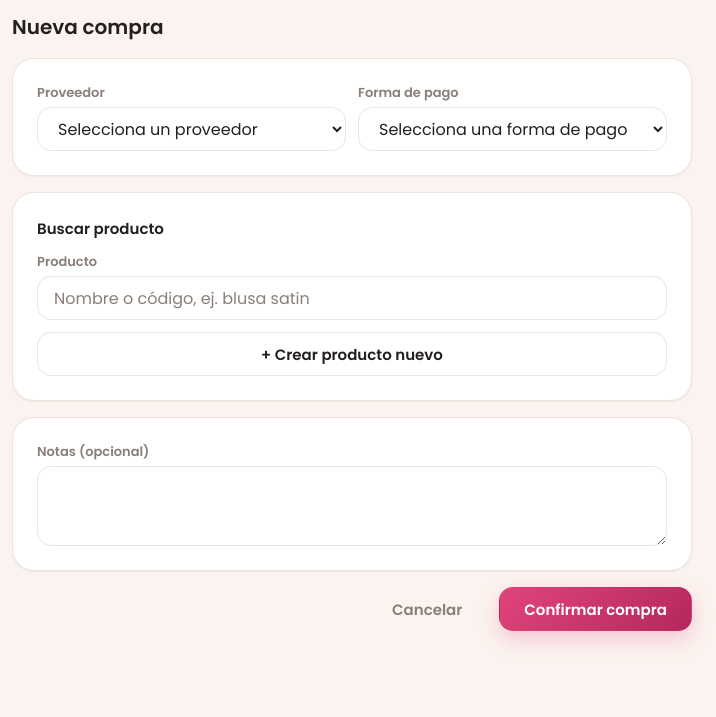
Test: PurchaseFormPage › detecta posibles duplicados al escribir el nombre de un producto nuevo
Click the button "+ Crear producto nuevo" at x=352, y=354, box x1=37 y1=332 x2=667 y2=376
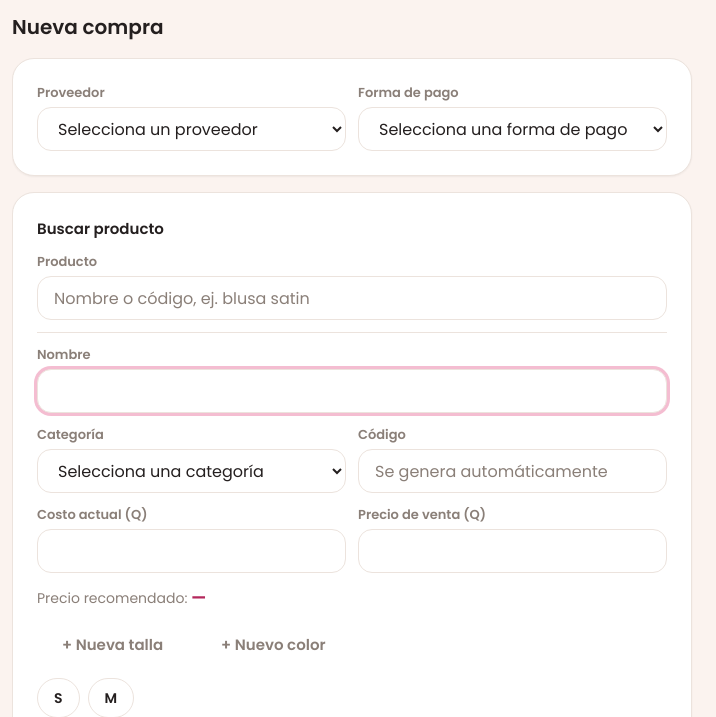
Type "Blusa satin" into the field labelled "Nombre" at x=352, y=391, box x1=37 y1=369 x2=667 y2=413
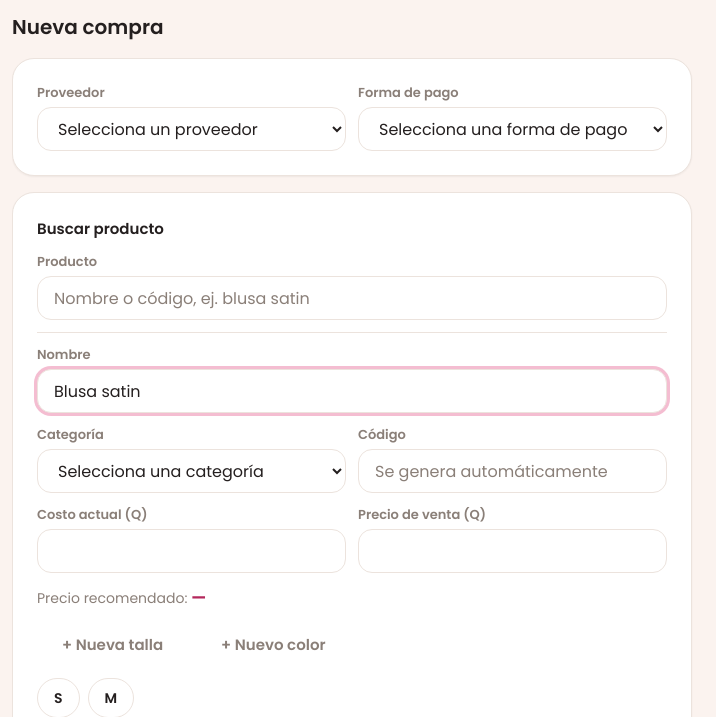
Press Tab
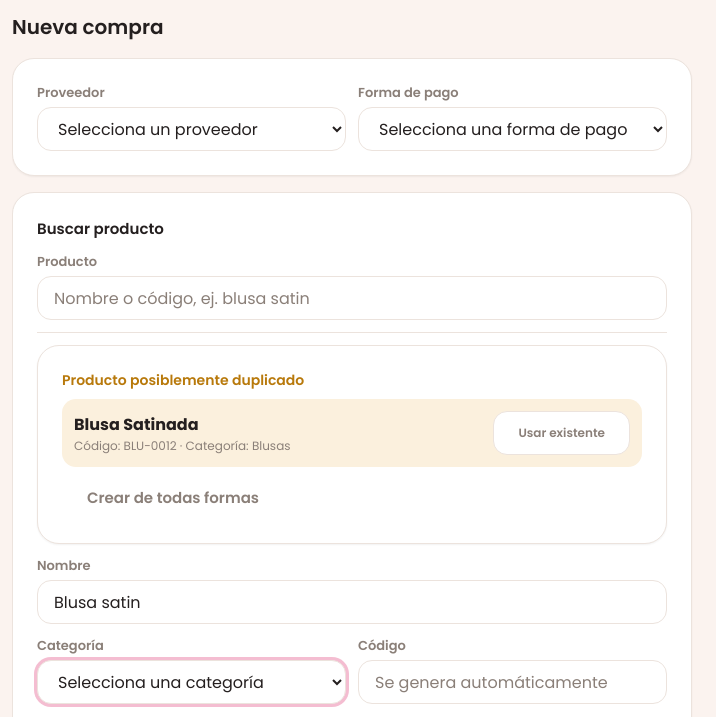
Now the heading "Producto posiblemente duplicado" is shown, box x1=62 y1=370 x2=304 y2=390
Now the button "Usar existente" is shown, box x1=493 y1=411 x2=630 y2=455
